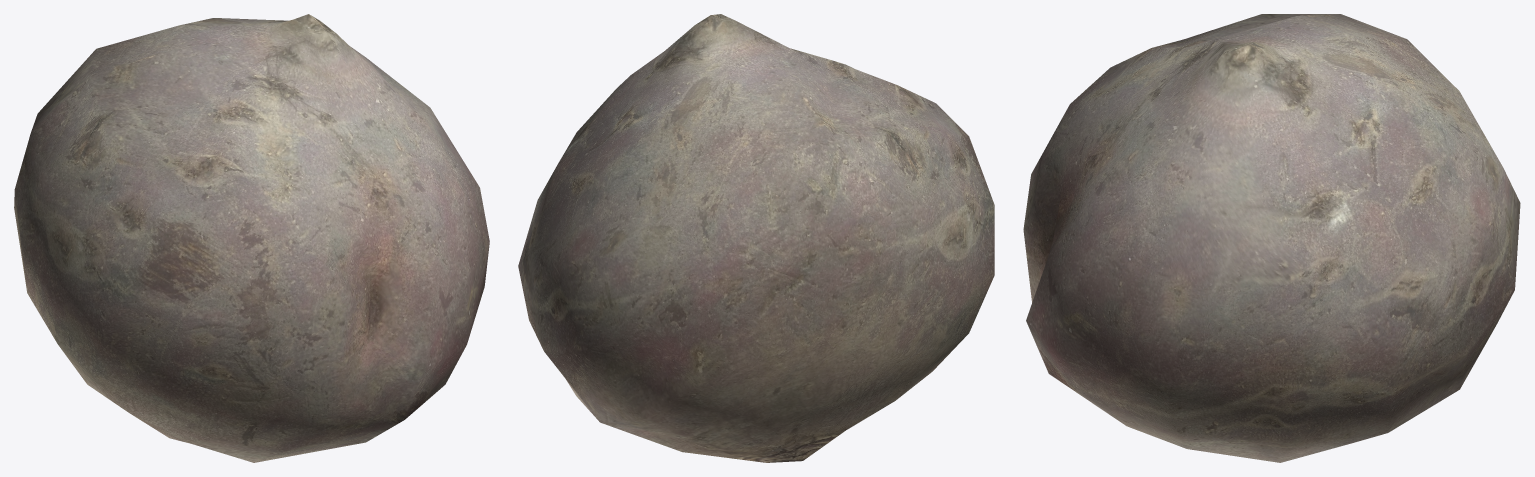
Rendered from A94_Turnip_low.fbx.
3 views of the same model, side by side, from view 1: azimuth 30°, elevation 25°; view 2: azimuth 150°, elevation 25°; view 3: azimuth 270°, elevation 25° (orthographic). The views are drawn at different scales.
Parts seen in each view (by area): view 1: A94_Turnip_low; view 2: A94_Turnip_low; view 3: A94_Turnip_low.
Part boxes in pixels (x1,y1,x2,y2): A94_Turnip_low: [14, 14, 489, 462]; A94_Turnip_low: [518, 14, 994, 462]; A94_Turnip_low: [1023, 14, 1520, 462].
Size of the model in its own units: 12.64 by 13.37 by 12.26.
Materials: 1 (1 with a texture image).
